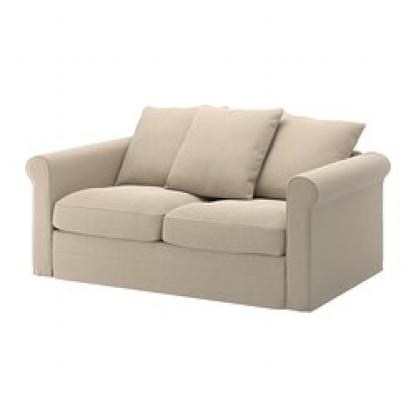Sofa: (18, 65, 390, 319)
